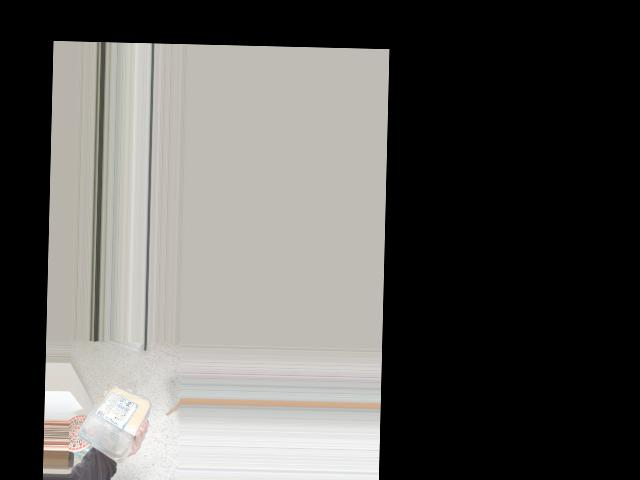cheese: (72, 383, 146, 445)
